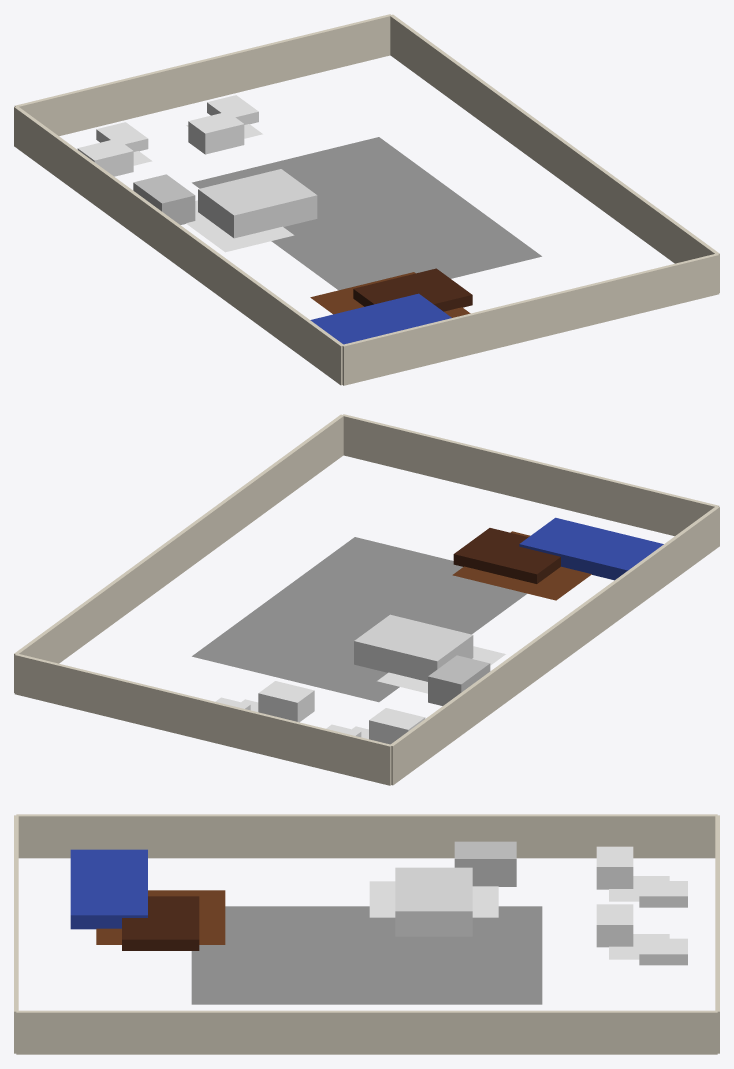
File: boq_professional_17c9c09e-9ba9-42b8-8b10-bcf31841c236.obj
3 renders of one model, top to bottom at view 1: azimuth 30°, elevation 25°; view 2: azimuth 150°, elevation 25°; view 3: azimuth 270°, elevation 25°, orthographic. The views are drawn at different scales.
Parts seen in each view (by area): view 1: Foundation, ExteriorWall_South, ExteriorWall_North, ExteriorWall_West, ExteriorWall_East, Counter_Kitchen_1, Sofa_Living_Room_1, CoffeeTable_Living_Room_1, Fridge_Kitchen_1, Sink_Bathroom_2, Floor_Kitchen_1, Sink_Bathroom_1 (+3 smaller); view 2: Foundation, ExteriorWall_North, ExteriorWall_South, ExteriorWall_West, ExteriorWall_East, Counter_Kitchen_1, Sofa_Living_Room_1, CoffeeTable_Living_Room_1, Floor_Living_Room_1, Fridge_Kitchen_1, Sink_Bathroom_2, Sink_Bathroom_1 (+1 smaller); view 3: ExteriorWall_East, Foundation, ExteriorWall_West, Sofa_Living_Room_1, Counter_Kitchen_1, CoffeeTable_Living_Room_1, Fridge_Kitchen_1, Floor_Living_Room_1, Floor_Kitchen_1, Sink_Bathroom_2, Sink_Bathroom_1, Toilet_Bathroom_2 (+5 smaller).
Part boxes in pixels (x1,y1,x2,y2): Foundation: (192, 137, 541, 290); ExteriorWall_South: (342, 253, 719, 385); ExteriorWall_North: (14, 14, 391, 136); ExteriorWall_West: (14, 106, 343, 385); ExteriorWall_East: (390, 14, 719, 292); Counter_Kitchen_1: (198, 169, 317, 238); Sofa_Living_Room_1: (310, 293, 451, 344); CoffeeTable_Living_Room_1: (353, 268, 472, 311); Fridge_Kitchen_1: (133, 174, 195, 224); Sink_Bathroom_2: (188, 111, 244, 154); Floor_Kitchen_1: (186, 200, 294, 252); Sink_Bathroom_1: (77, 138, 133, 176); Foundation: (192, 537, 526, 702); ExteriorWall_North: (14, 653, 391, 785); ExteriorWall_South: (342, 414, 719, 536); ExteriorWall_West: (390, 506, 719, 785); ExteriorWall_East: (14, 414, 343, 692); Counter_Kitchen_1: (354, 614, 473, 681); Sofa_Living_Room_1: (519, 517, 663, 580); CoffeeTable_Living_Room_1: (453, 528, 560, 583); Floor_Living_Room_1: (452, 531, 591, 600); Fridge_Kitchen_1: (428, 655, 490, 705); Sink_Bathroom_2: (258, 681, 314, 722); Sink_Bathroom_1: (369, 708, 425, 744); ExteriorWall_East: (16, 1010, 717, 1054); Foundation: (191, 906, 542, 1004); ExteriorWall_West: (16, 814, 717, 858); Sofa_Living_Room_1: (70, 849, 147, 929); Counter_Kitchen_1: (395, 867, 472, 936); CoffeeTable_Living_Room_1: (122, 896, 199, 950); Fridge_Kitchen_1: (454, 841, 516, 886); Floor_Living_Room_1: (96, 890, 225, 944); Floor_Kitchen_1: (369, 881, 498, 917); Sink_Bathroom_2: (596, 904, 633, 947); Sink_Bathroom_1: (596, 846, 633, 889); Toilet_Bathroom_2: (639, 938, 687, 965).
Size of the model in its own units: 30.3 by 3 by 45.55.
